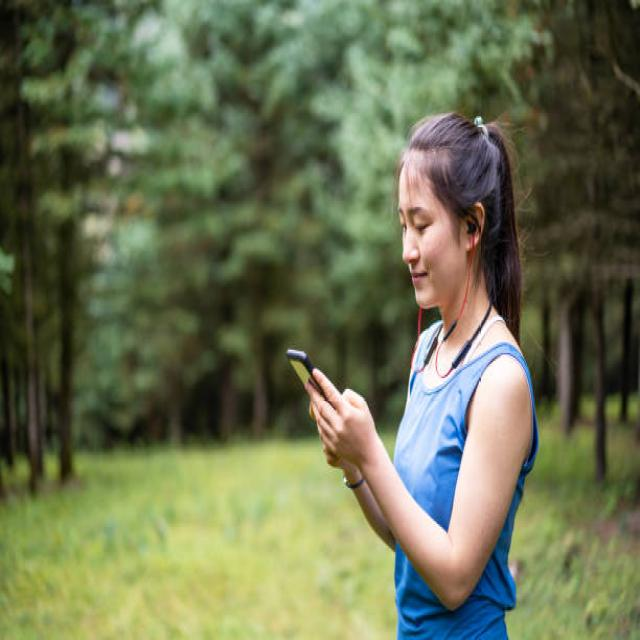Neckband: (410, 221, 494, 379)
